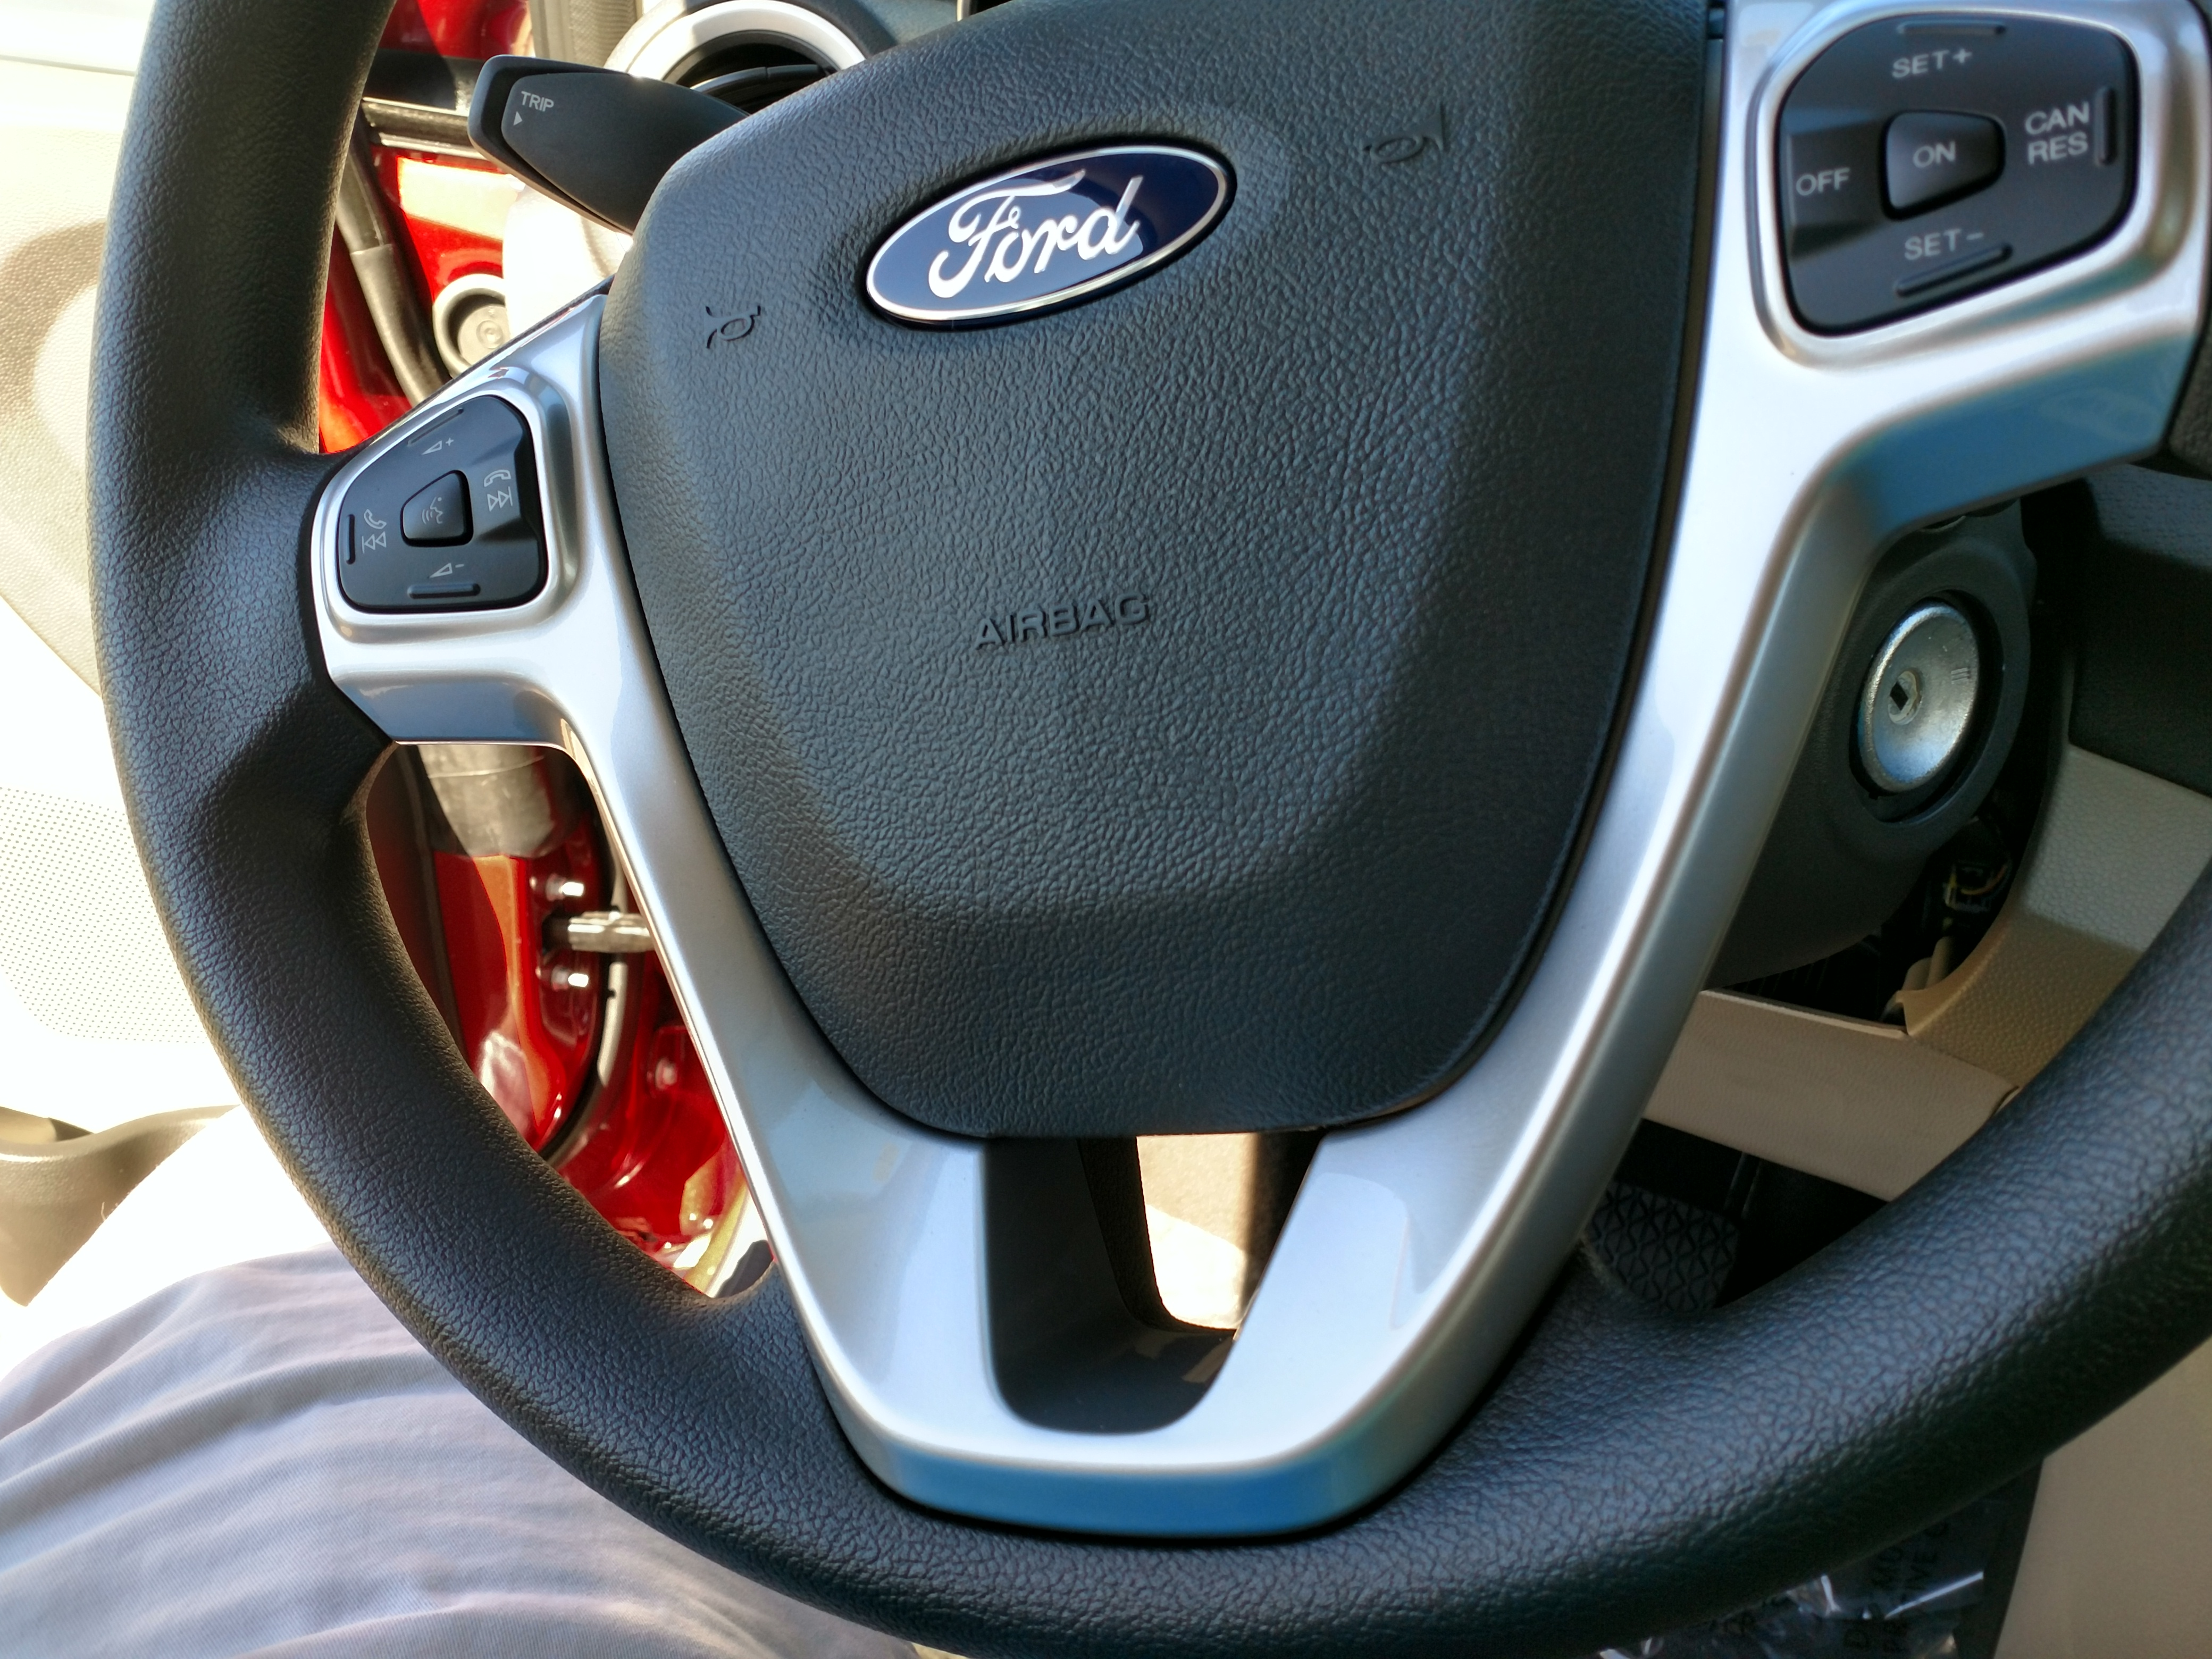Ford: (850, 129, 1252, 340)
